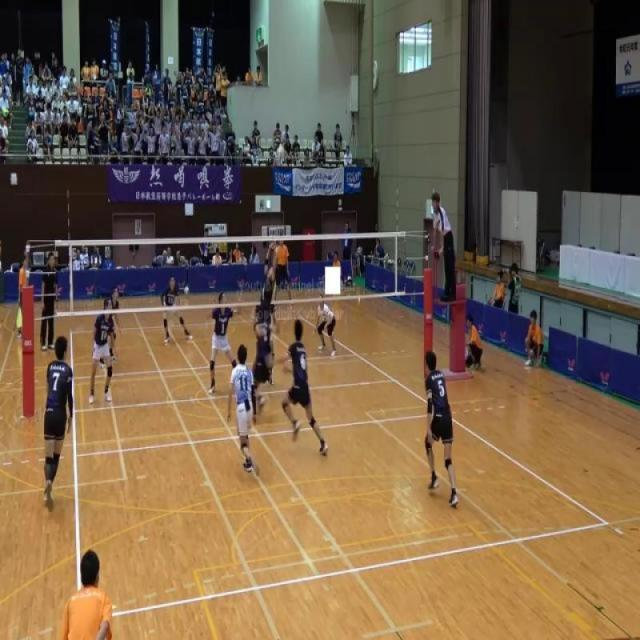volleyball: (276, 142, 286, 159), (184, 285, 189, 296)
